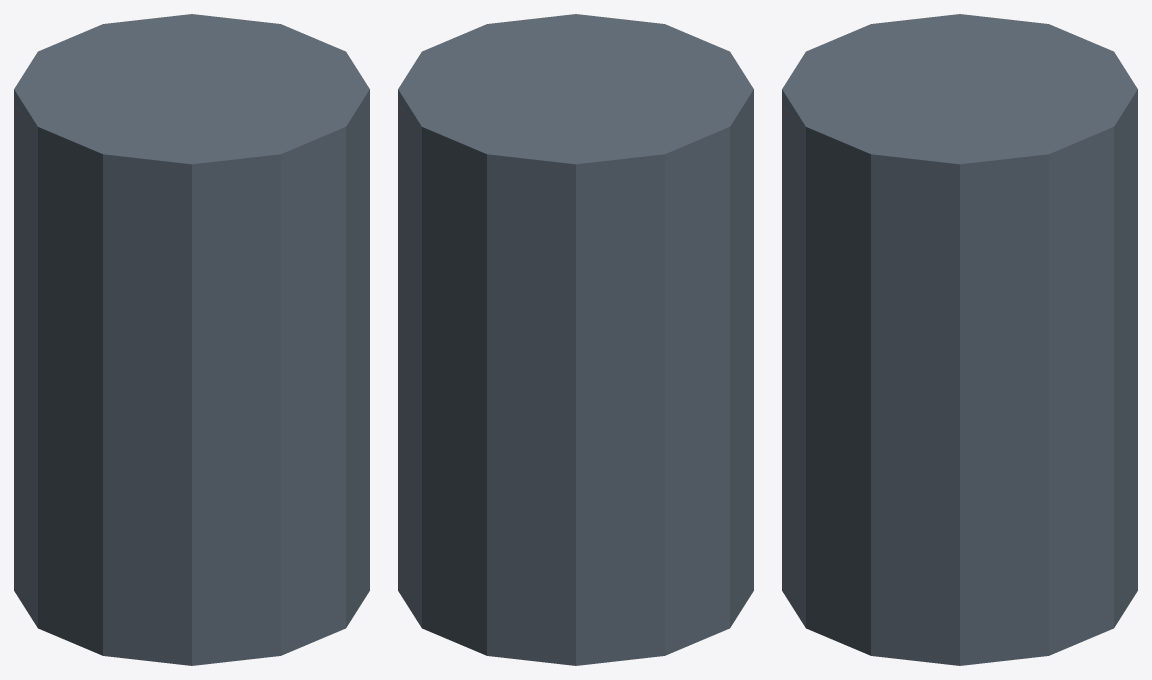
Rendered from Column08.fbx.
3 views of the same model, side by side, from view 1: azimuth 30°, elevation 25°; view 2: azimuth 150°, elevation 25°; view 3: azimuth 270°, elevation 25° (orthographic).
Visible parts, largest first — view 1: Column08; view 2: Column08; view 3: Column08.
Boxes of the visible parts, left/top/right/bottom form: Column08: left=14, top=14, right=369, bottom=665; Column08: left=398, top=14, right=753, bottom=665; Column08: left=782, top=14, right=1137, bottom=665.
Bounding box in the file's own units: 36 × 56 × 36.
1 material, 1 textured.
